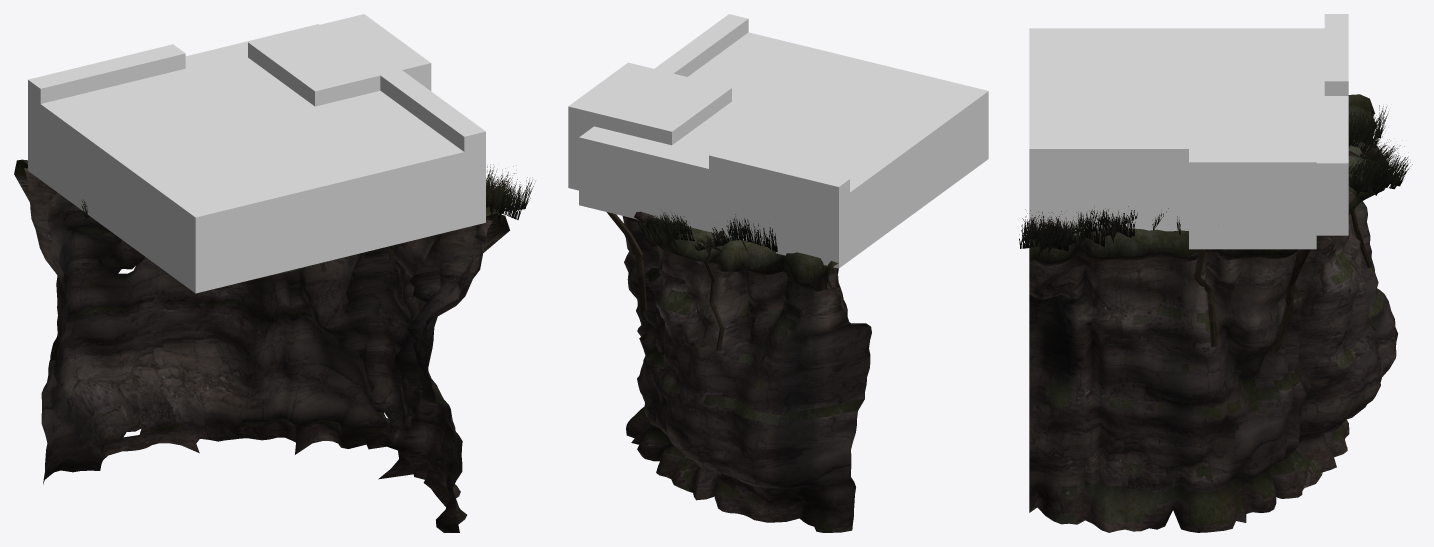
File: cliff_edge_corner_outer.glb
The picture shows the model from 3 angles, left to right: view 1: azimuth 30°, elevation 25°; view 2: azimuth 150°, elevation 25°; view 3: azimuth 270°, elevation 25°; orthographic projection. The views are drawn at different scales.
Visible parts, largest first — view 1: cliff_edge_corner_outer, col_walk_cliff_edge_corner_outer, col_block_rim_cliff_edge_corner_outer_1, col_block_rim_cliff_edge_corner_outer_0, col_block_rim_cliff_edge_corner_outer_2; view 2: cliff_edge_corner_outer, col_walk_cliff_edge_corner_outer, col_block_rim_cliff_edge_corner_outer_0, col_block_rim_cliff_edge_corner_outer_1, col_block_rim_cliff_edge_corner_outer_2; view 3: cliff_edge_corner_outer, col_walk_cliff_edge_corner_outer, col_block_rim_cliff_edge_corner_outer_1, col_block_rim_cliff_edge_corner_outer_2, col_block_rim_cliff_edge_corner_outer_0.
Part boxes in pixels (x1=…): cliff_edge_corner_outer: x1=14, y1=159, x2=535, y2=532; col_walk_cliff_edge_corner_outer: x1=28, y1=24, x2=485, y2=293; col_block_rim_cliff_edge_corner_outer_1: x1=248, y1=14, x2=431, y2=106; col_block_rim_cliff_edge_corner_outer_0: x1=28, y1=44, x2=185, y2=179; col_block_rim_cliff_edge_corner_outer_2: x1=380, y1=70, x2=485, y2=227; cliff_edge_corner_outer: x1=606, y1=210, x2=871, y2=532; col_walk_cliff_edge_corner_outer: x1=579, y1=32, x2=988, y2=268; col_block_rim_cliff_edge_corner_outer_0: x1=709, y1=147, x2=849, y2=268; col_block_rim_cliff_edge_corner_outer_1: x1=568, y1=62, x2=731, y2=190; col_block_rim_cliff_edge_corner_outer_2: x1=654, y1=14, x2=748, y2=76; cliff_edge_corner_outer: x1=1019, y1=94, x2=1412, y2=532; col_walk_cliff_edge_corner_outer: x1=1029, y1=28, x2=1348, y2=235; col_block_rim_cliff_edge_corner_outer_1: x1=1189, y1=108, x2=1316, y2=249; col_block_rim_cliff_edge_corner_outer_2: x1=1029, y1=139, x2=1188, y2=235; col_block_rim_cliff_edge_corner_outer_0: x1=1324, y1=14, x2=1348, y2=95.
Size of the model in its own units: 4.94 by 5.2 by 5.04.
5 materials, 5 textured.
